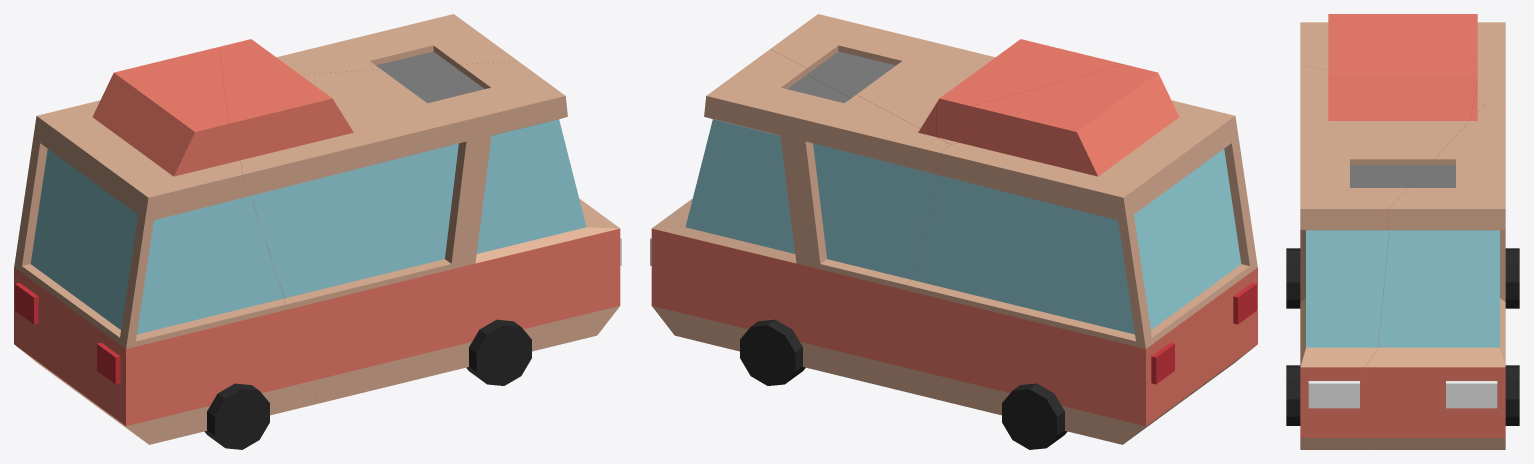
The model's file is Car 3 Fractured.fbx.
3 views of the same model, side by side, from view 1: azimuth 30°, elevation 25°; view 2: azimuth 150°, elevation 25°; view 3: azimuth 270°, elevation 25° (orthographic). The views are drawn at different scales.
Visible parts, largest first — view 1: Car_3_Breaking_cell, Car_3_Breaking_cell.001, Car_3_Breaking_cell.002; view 2: Car_3_Breaking_cell.001, Car_3_Breaking_cell.002, Car_3_Breaking_cell; view 3: Car_3_Breaking_cell, Car_3_Breaking_cell.002, Car_3_Breaking_cell.001.
Boxes of the visible parts, box(x1,y1,x2,y2) form: Car_3_Breaking_cell: box(219, 39, 621, 403); Car_3_Breaking_cell.001: box(14, 47, 317, 449); Car_3_Breaking_cell.002: box(277, 14, 584, 202); Car_3_Breaking_cell.001: box(878, 64, 1257, 449); Car_3_Breaking_cell.002: box(650, 49, 950, 385); Car_3_Breaking_cell: box(771, 14, 1124, 144); Car_3_Breaking_cell: box(1286, 29, 1485, 449); Car_3_Breaking_cell.002: box(1365, 83, 1519, 449); Car_3_Breaking_cell.001: box(1286, 14, 1519, 308).
Size of the model in its own units: 521 by 303 by 227.
